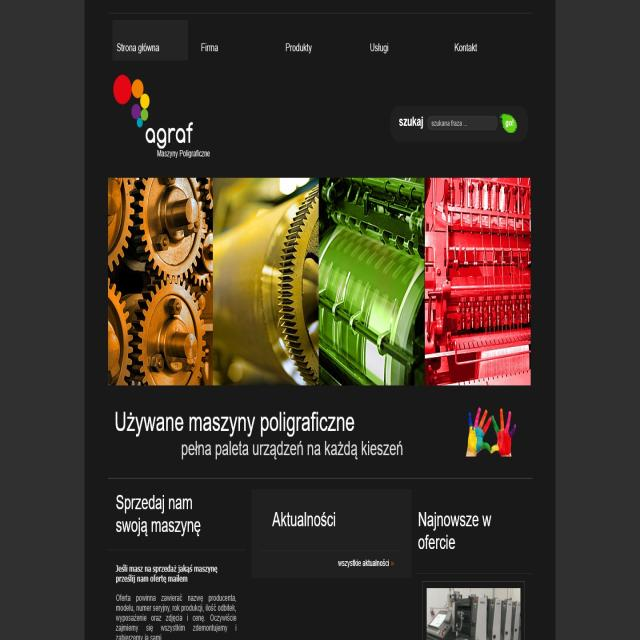button: (340, 20, 422, 65), (426, 21, 504, 64), (112, 19, 188, 62), (190, 20, 264, 63), (266, 20, 336, 64), (500, 111, 520, 134)
field: (428, 116, 498, 132)
heading: (110, 406, 356, 437), (114, 492, 204, 538), (417, 507, 495, 553), (271, 510, 339, 530), (145, 122, 195, 146)
image: (108, 178, 532, 387), (426, 586, 521, 640), (462, 404, 516, 466), (110, 73, 150, 127)
label: (430, 117, 469, 129)
link: (334, 556, 396, 570)
text: (114, 593, 241, 640), (180, 439, 408, 462), (116, 562, 220, 584), (157, 150, 212, 160), (398, 115, 426, 132)
